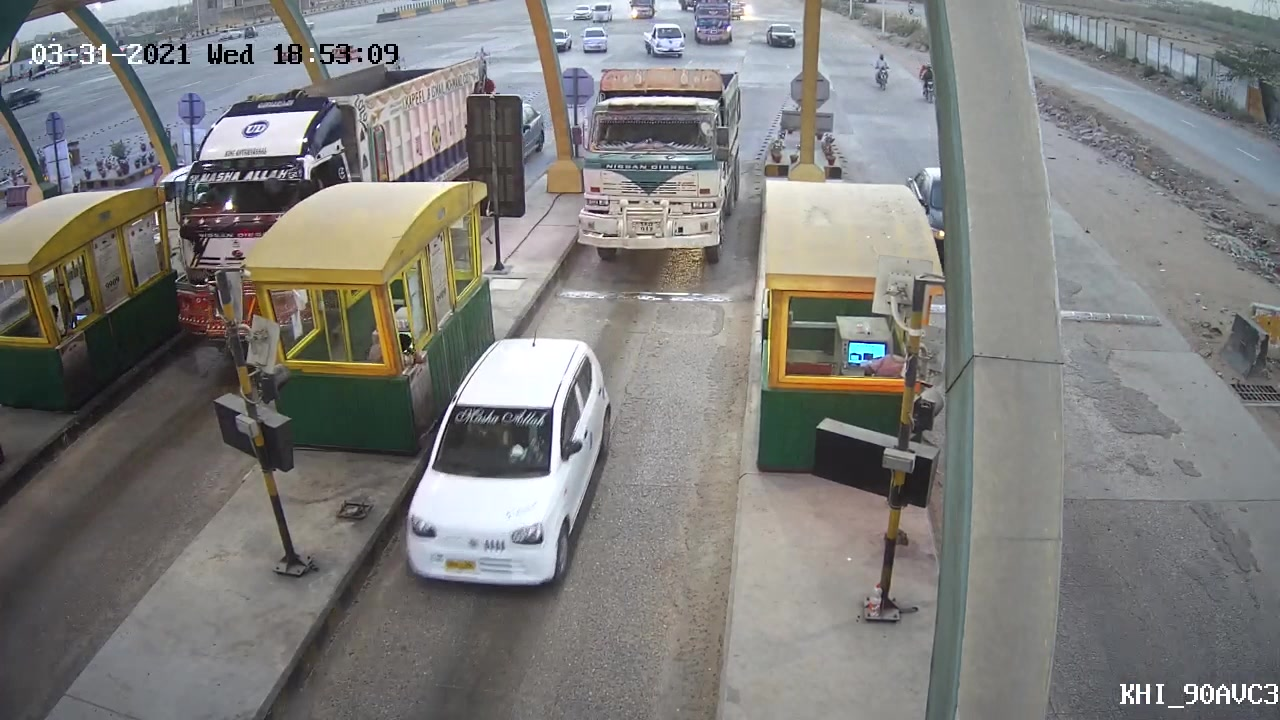F1: (402, 328, 614, 599)
F5: (573, 51, 751, 278)
